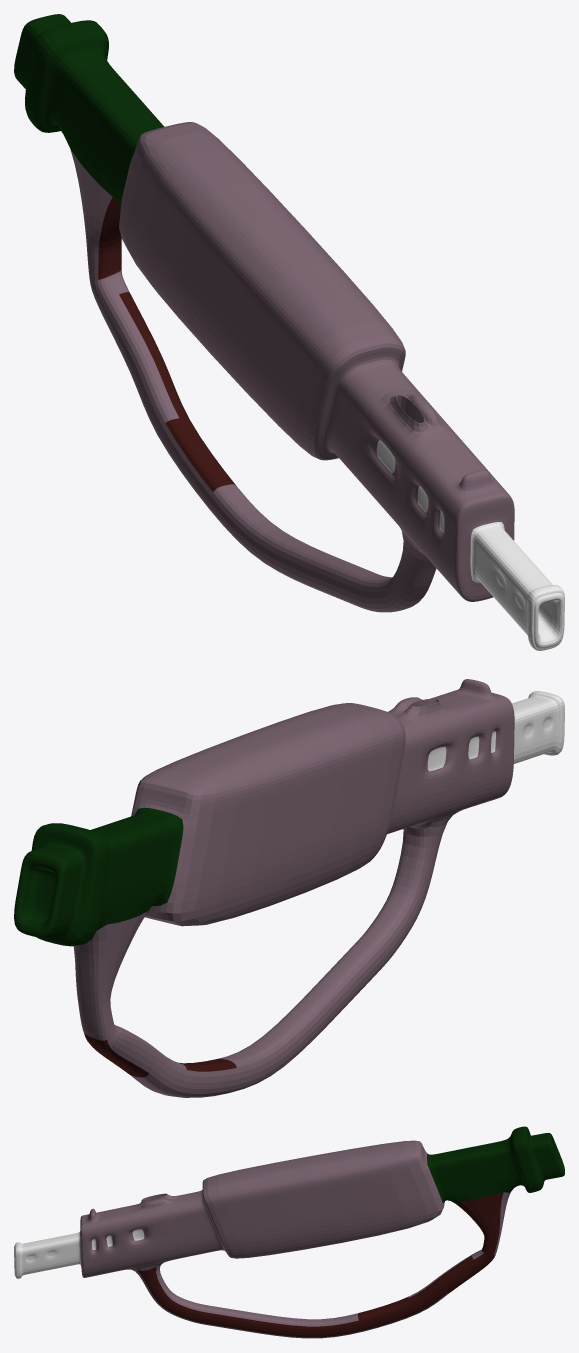
File: coś_Działko.fbx
The picture shows the model from 3 angles, top to bottom: view 1: azimuth 30°, elevation 25°; view 2: azimuth 150°, elevation 25°; view 3: azimuth 270°, elevation 25°; orthographic projection. The views are drawn at different scales.
Parts seen in each view (by area): view 1: Cube.004; view 2: Cube.004; view 3: Cube.004.
Part boxes in pixels (x1,y1,x2,y2): Cube.004: [14, 14, 564, 650]; Cube.004: [14, 679, 564, 1097]; Cube.004: [14, 1126, 564, 1338].
Bounding box in the file's own units: 291 × 1259 × 3058.
